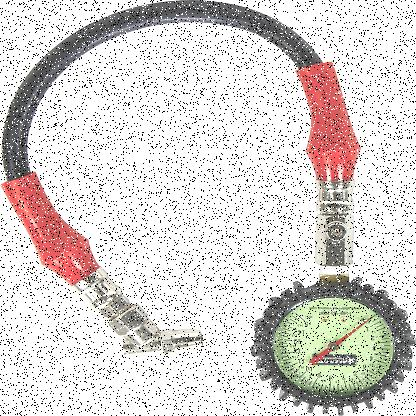needle: (335, 316, 372, 346)
